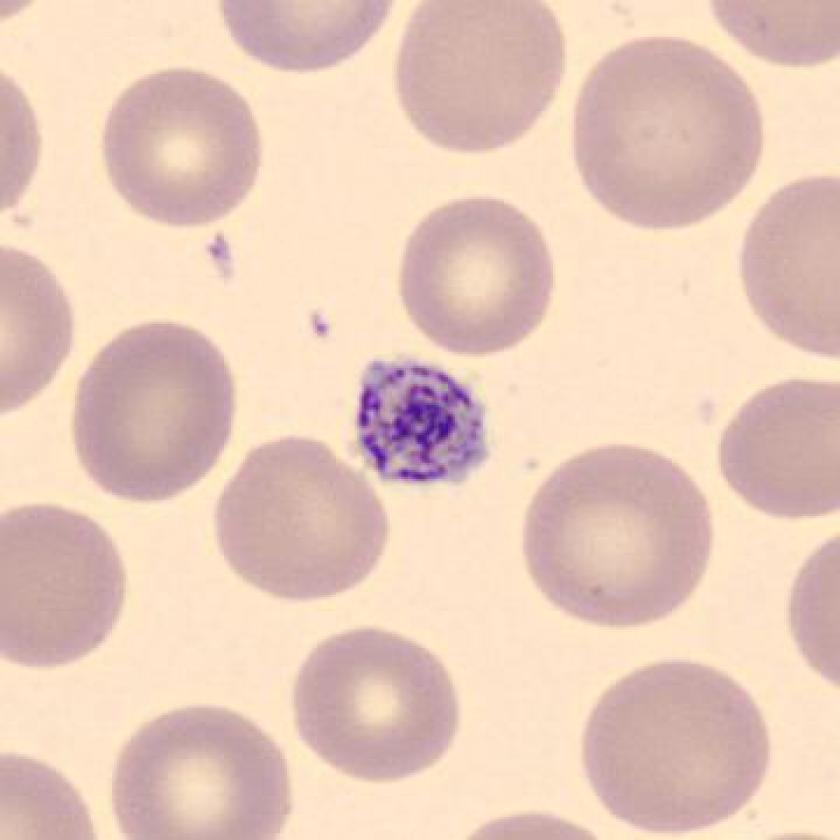platelets: (342, 346, 505, 501)
